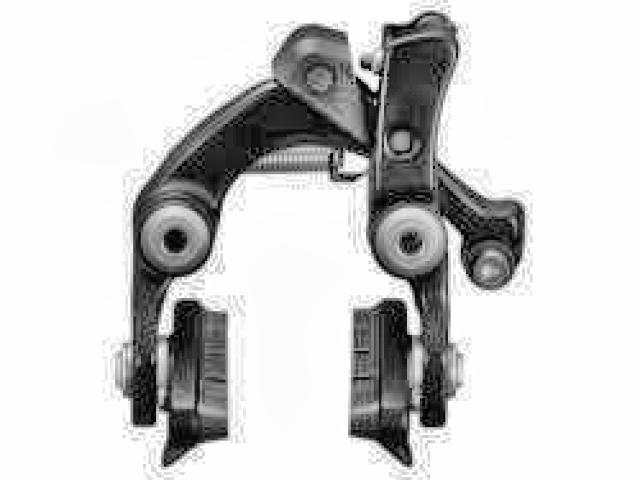rim_brake: (113, 9, 526, 468)
